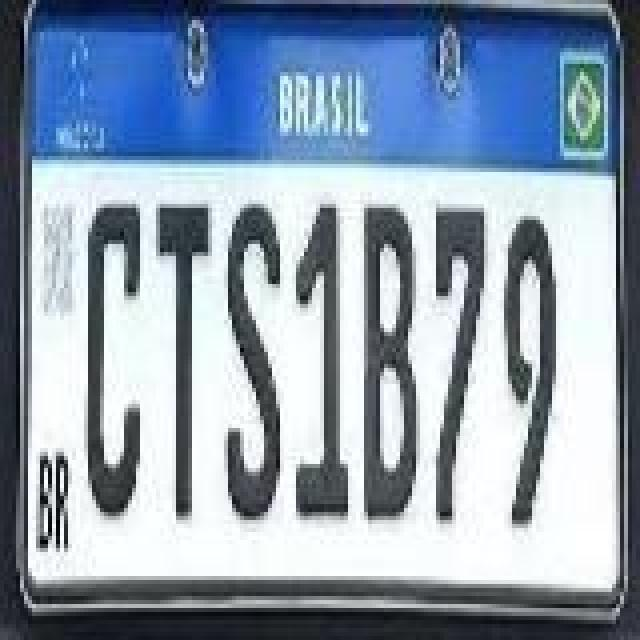1: (292, 200, 348, 520)
7: (432, 198, 488, 522)
9: (500, 208, 556, 528)
B: (364, 198, 420, 522)
C: (82, 200, 142, 520)
S: (222, 194, 282, 526)
T: (156, 200, 212, 520)
